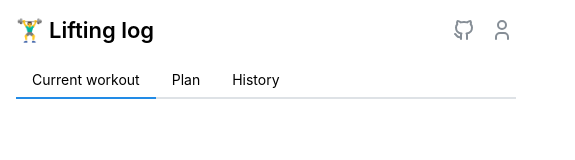
Test case: AppShell › when authenticated (userId is set) › user menu dropdown › shows a display name item when displayName is set
Click the button named "User menu": (502, 30) [488, 16, 516, 44]
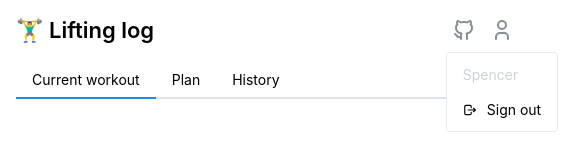
Check: the text "Spencer" is shown, box [463, 66, 518, 83]
